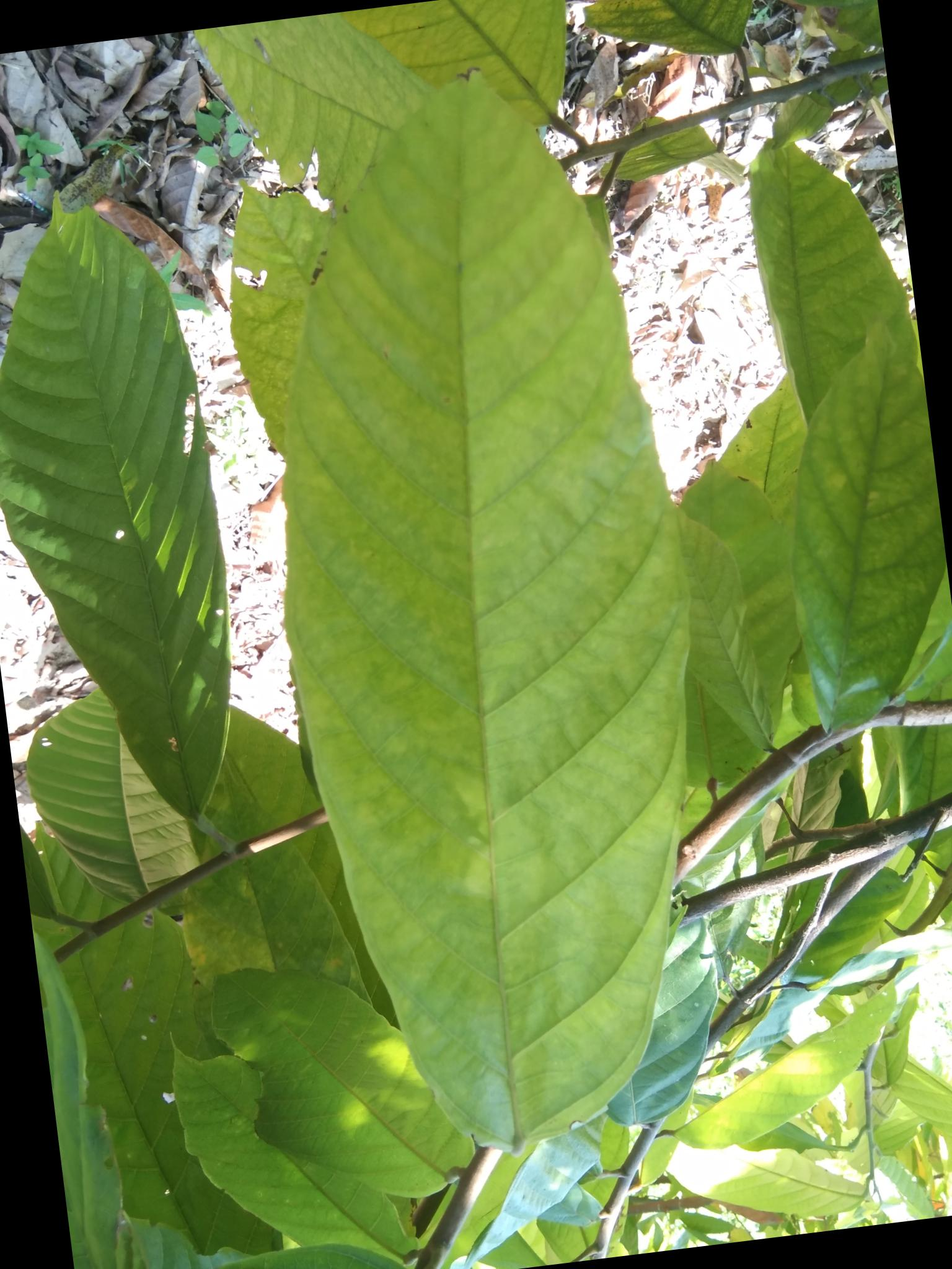Fosforo: (281, 58, 682, 1155)
